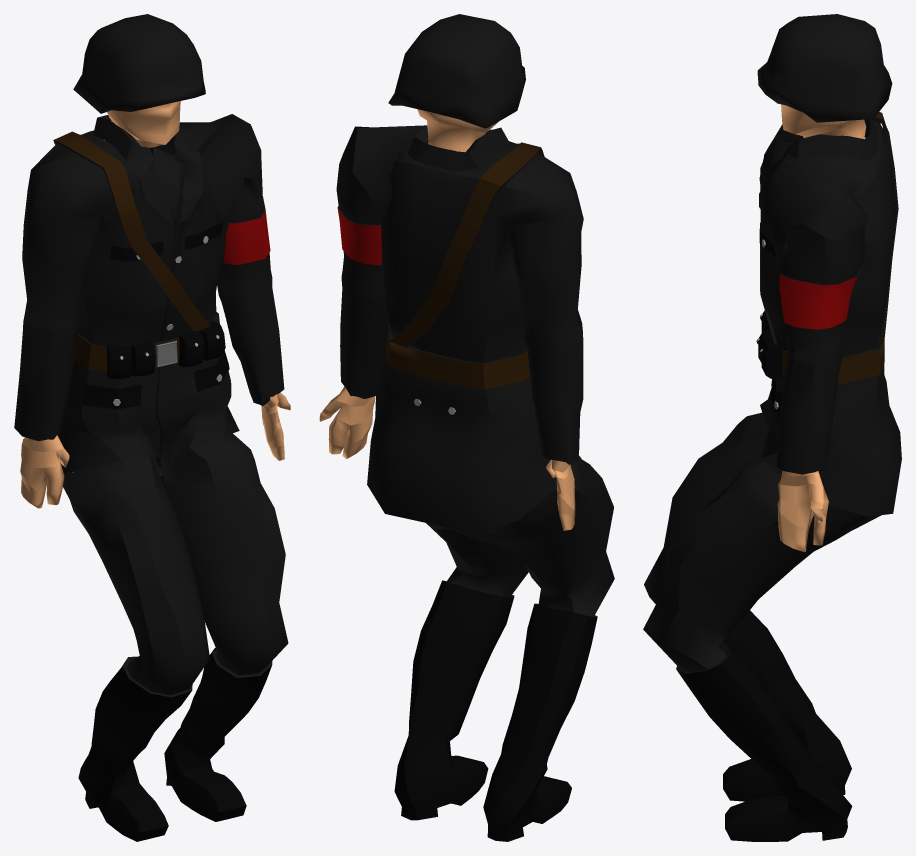
Rendered from german_infantry_relaxed_crouch_01.glb.
3 views of the same model, side by side, from view 1: azimuth 30°, elevation 25°; view 2: azimuth 150°, elevation 25°; view 3: azimuth 270°, elevation 25° (orthographic). The views are drawn at different scales.
Parts seen in each view (by area): view 1: Soldier_1_Static, Helmet_Static; view 2: Soldier_1_Static, Helmet_Static; view 3: Soldier_1_Static, Helmet_Static.
Boxes of the visible parts, left/top/right/bottom form: Soldier_1_Static: left=14, top=101, right=290, bottom=841; Helmet_Static: left=73, top=14, right=205, bottom=113; Soldier_1_Static: left=319, top=109, right=614, bottom=841; Helmet_Static: left=388, top=14, right=525, bottom=128; Soldier_1_Static: left=643, top=104, right=901, bottom=841; Helmet_Static: left=757, top=14, right=892, bottom=122.
Size of the model in its own units: 0.5644 by 1.59 by 0.4699.
1 material, 1 textured.
